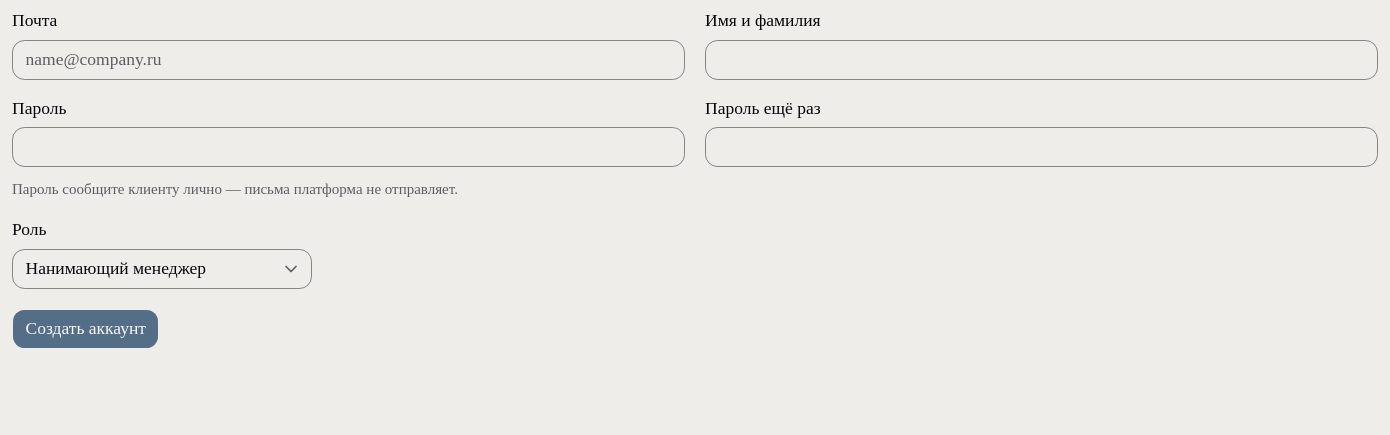
Test: создание пользователя клиента › успех: форма очищается, пароль не остаётся в странице
This screenshot has width=1390, height=435.
In the field labelled "Почта": x=348, y=60 [12,40,685,80], type "anna@starfish"
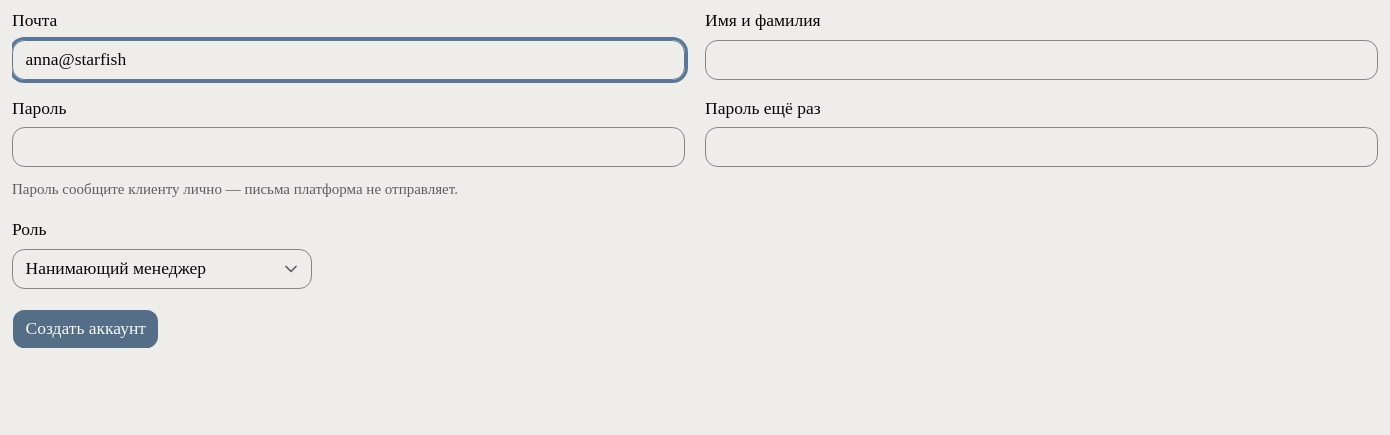
In the field labelled "Имя и фамилия": x=1042, y=60 [705,40,1378,80], type "Анна Петрова"
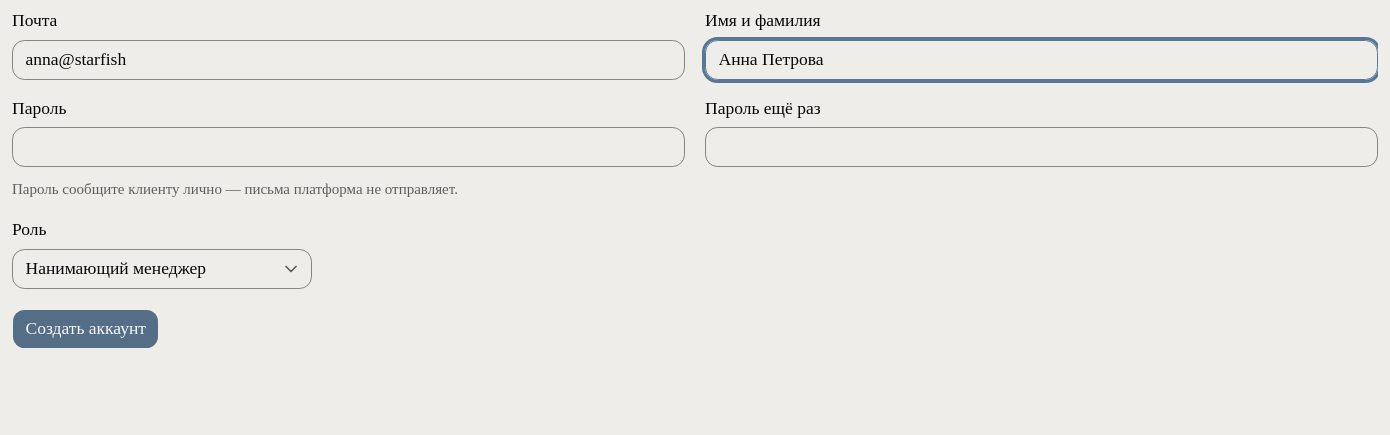
In the password field labelled "Пароль": x=348, y=147 [12,127,685,167], type "длинная-фраза-77"
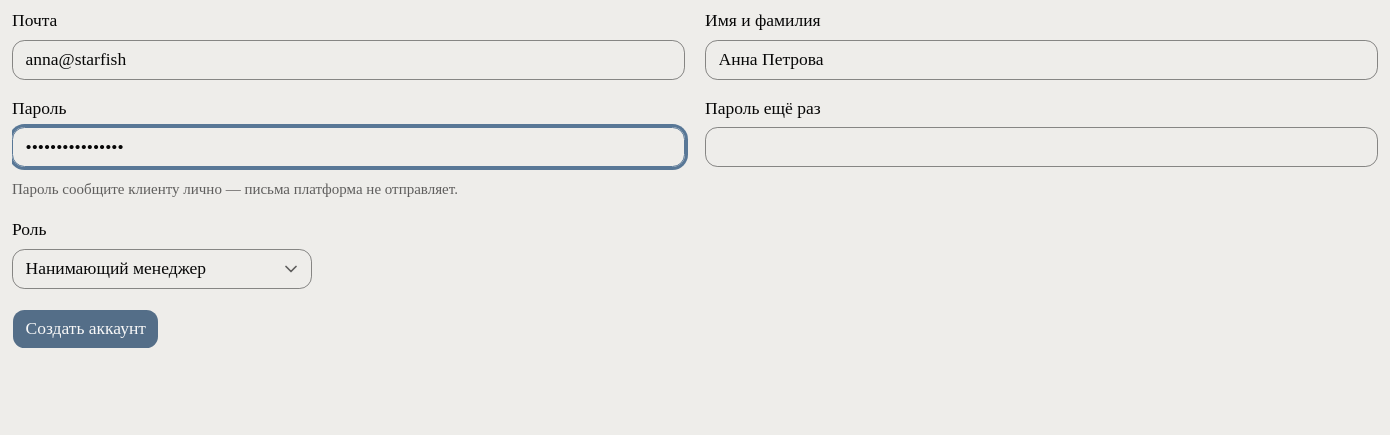
In the password field labelled "Пароль ещё раз": x=1042, y=147 [705,127,1378,167], type "другая-фраза-88"
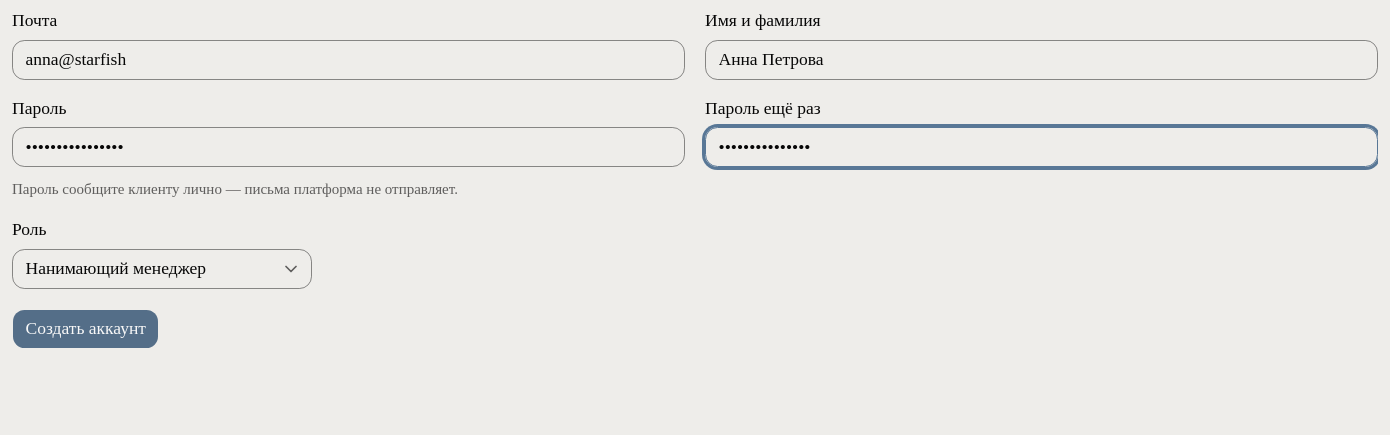
Click the button "Создать аккаунт": x=86, y=329 [12,309,159,349]
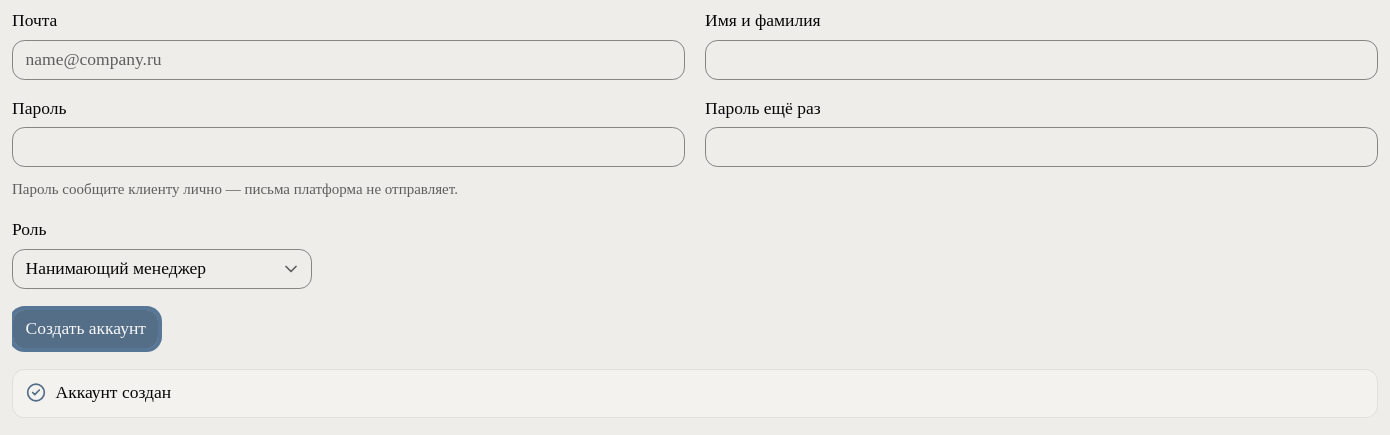
Expected: the text "Аккаунт создан" is shown, [56,382,171,402]
Expected: the password field labelled "Пароль" is empty, [12,127,685,167]
Expected: the field labelled "Имя и фамилия" is empty, [705,40,1378,80]
